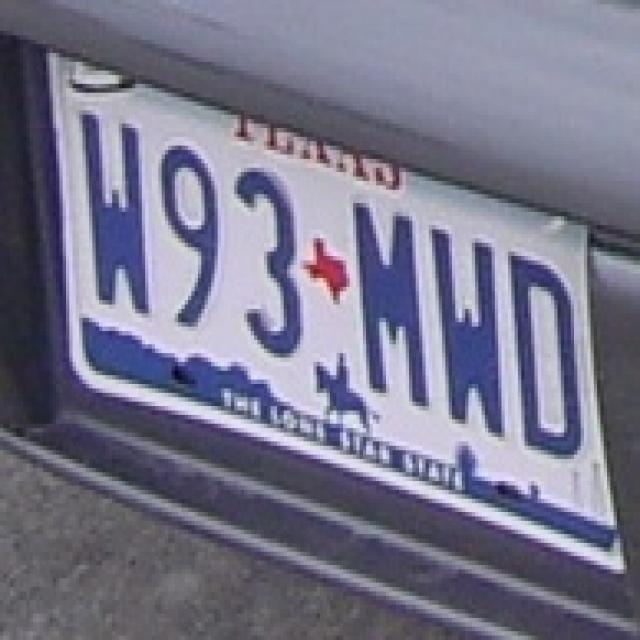LicensePlate: (22, 25, 636, 616)
